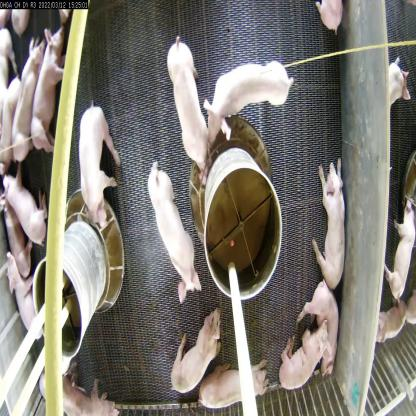Pig: (206, 49, 297, 140), (144, 163, 203, 302), (166, 28, 208, 181), (79, 99, 124, 234), (315, 149, 349, 293), (1, 248, 46, 352), (197, 353, 278, 410), (300, 273, 344, 377), (32, 28, 65, 162), (176, 306, 224, 392), (384, 185, 416, 308), (2, 169, 51, 246), (280, 319, 332, 389), (50, 365, 121, 416), (17, 38, 41, 168)
